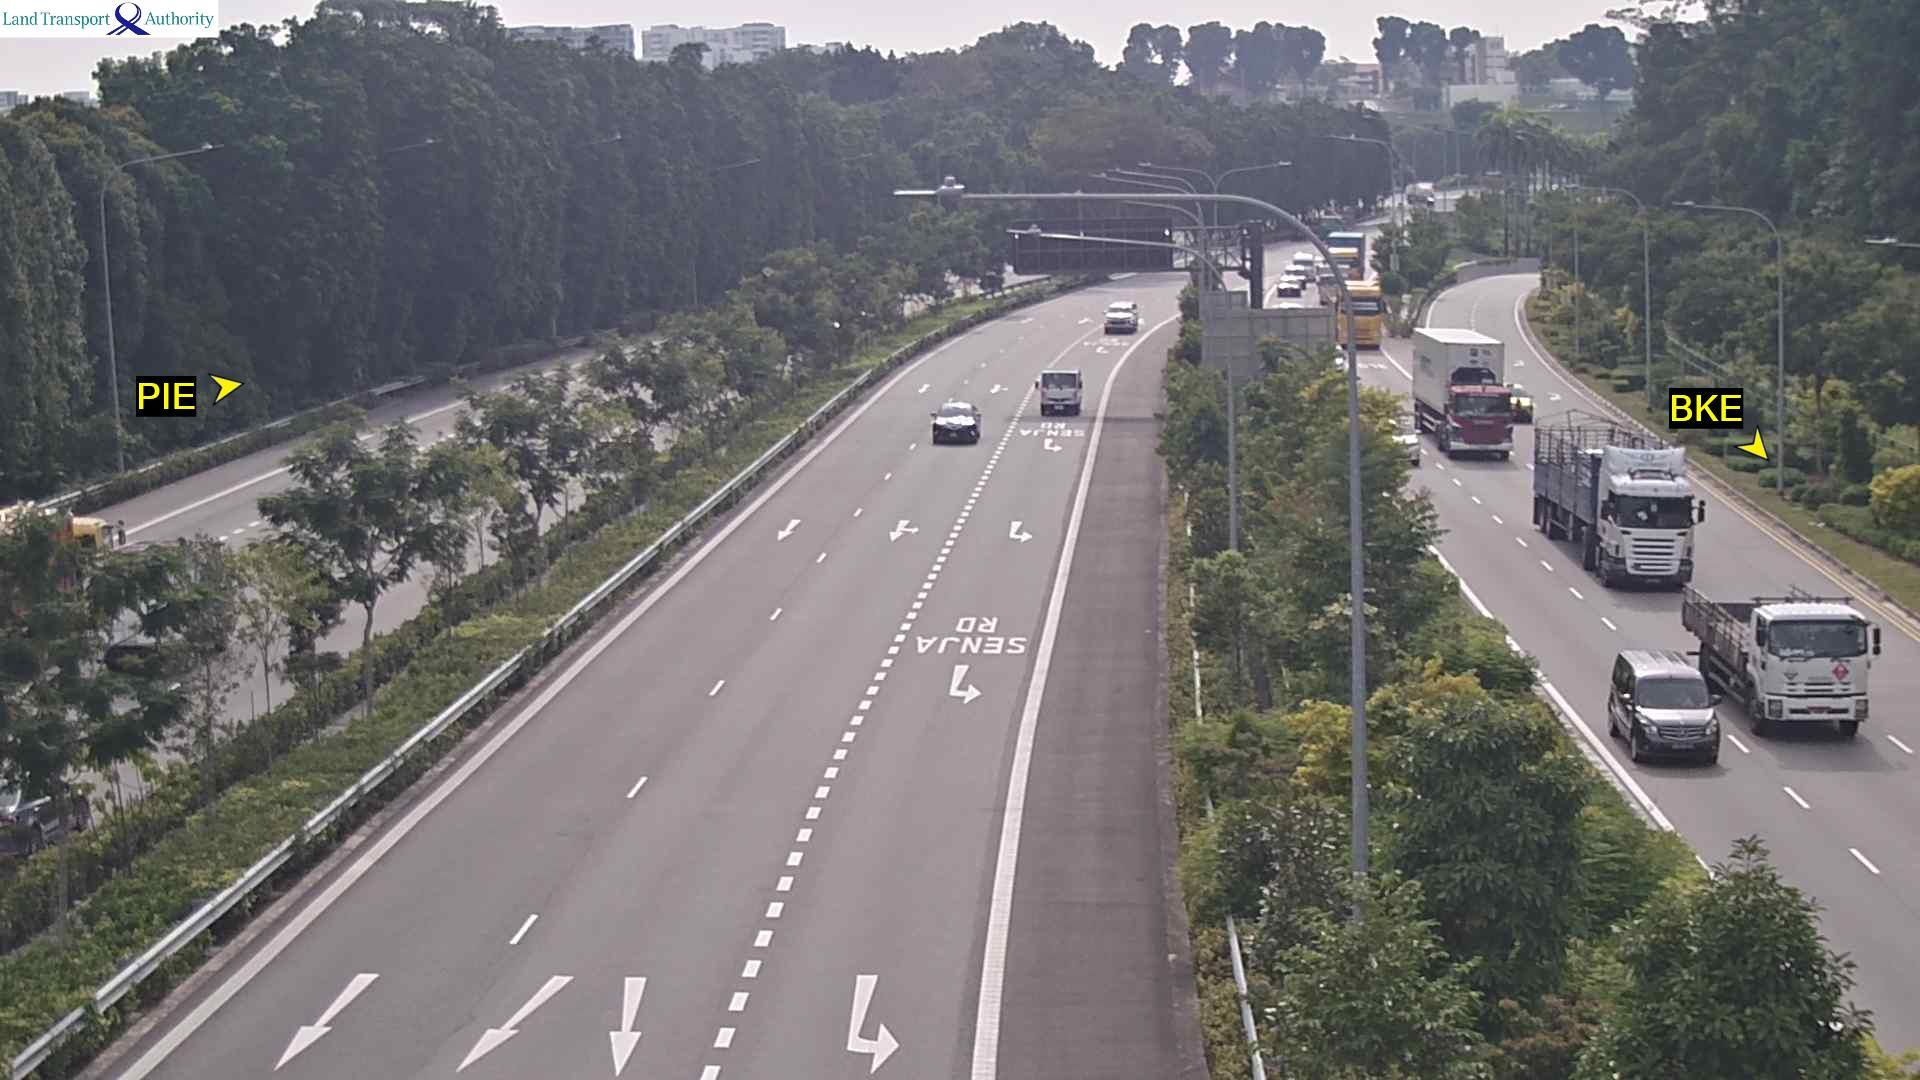cars: (1592, 465, 1705, 591), (1606, 647, 1721, 765), (929, 398, 981, 443), (1103, 299, 1139, 334), (1391, 428, 1421, 466), (1508, 382, 1534, 423), (1316, 271, 1342, 305), (1293, 248, 1317, 283), (1276, 272, 1303, 297), (1284, 262, 1307, 287)
trucks: (1530, 409, 1705, 591), (1679, 582, 1881, 739), (1410, 326, 1513, 460), (1335, 281, 1389, 354), (1035, 368, 1083, 416), (1327, 230, 1367, 285)
